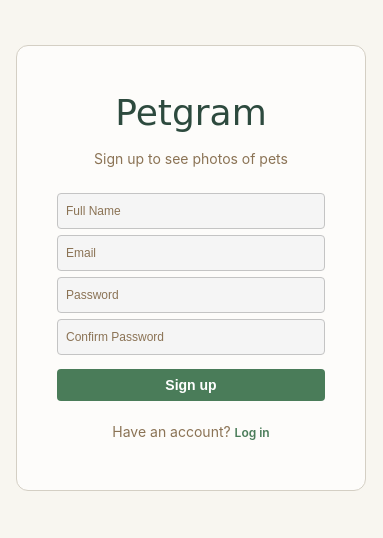
Test: Register Page › shows error on registration failure
The width and height of the screenshot is (383, 538).
In the field with placeholder "Full Name": [191, 211] box x1=57 y1=193 x2=325 y2=229, type "John Doe"
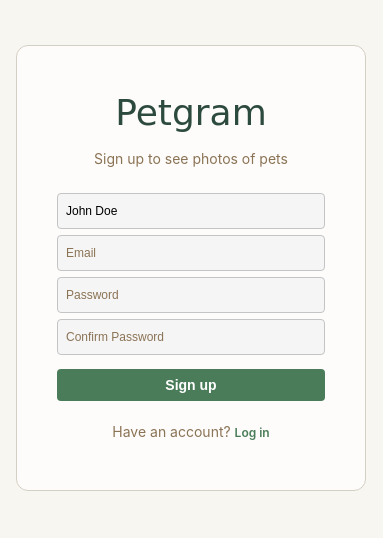
In the field with placeholder "Email": [191, 253] box x1=57 y1=235 x2=325 y2=271, type "test@test.com"
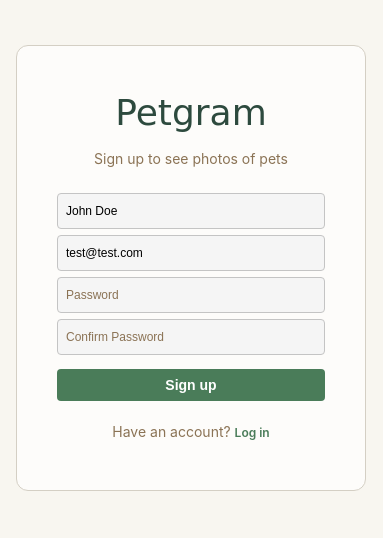
In the password field with placeholder "Password": [191, 295] box x1=57 y1=277 x2=325 y2=313, type "password123"
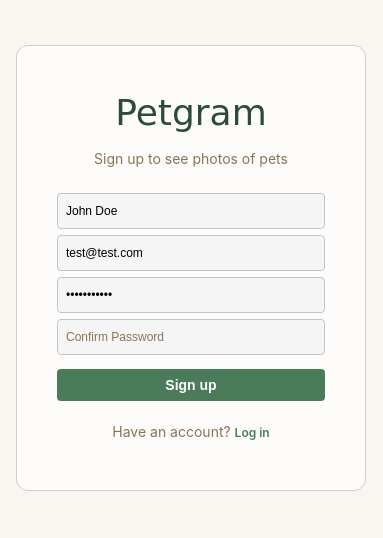
In the password field with placeholder "Confirm Password": [191, 337] box x1=57 y1=319 x2=325 y2=355, type "password123"
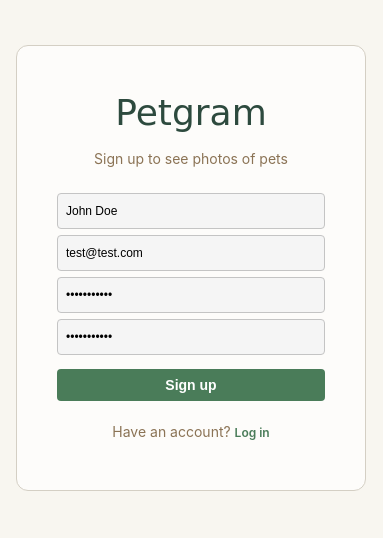
Click the button "Sign up": [191, 385] box x1=57 y1=369 x2=325 y2=401
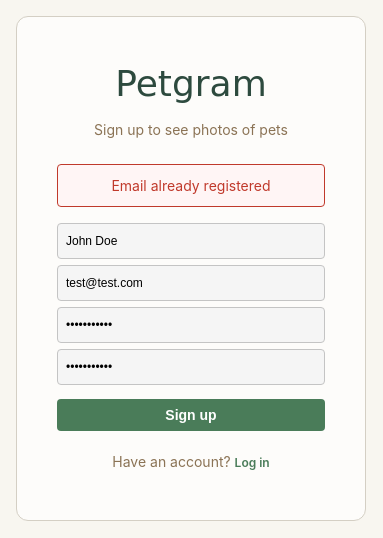
Expected: the text "Email already registered" is shown, x1=57 y1=164 x2=325 y2=206
